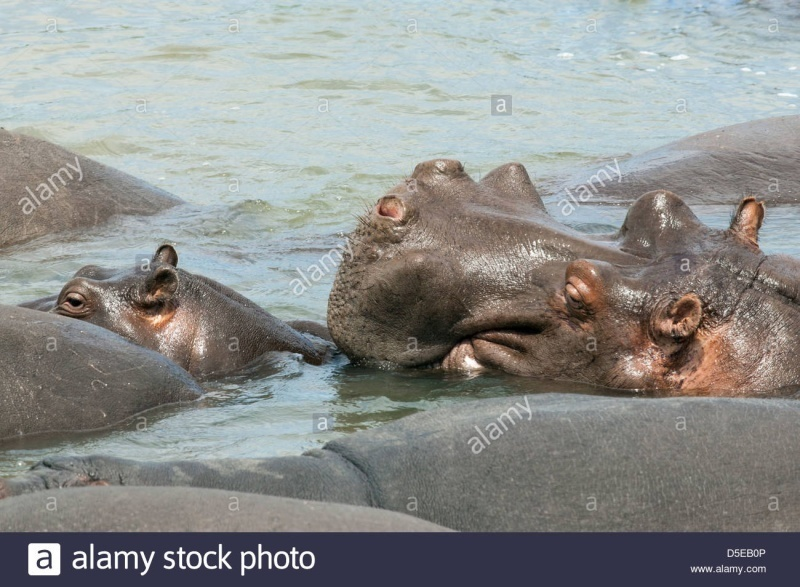hipopotamo: (321, 146, 800, 396), (18, 395, 800, 531), (9, 239, 315, 377)
